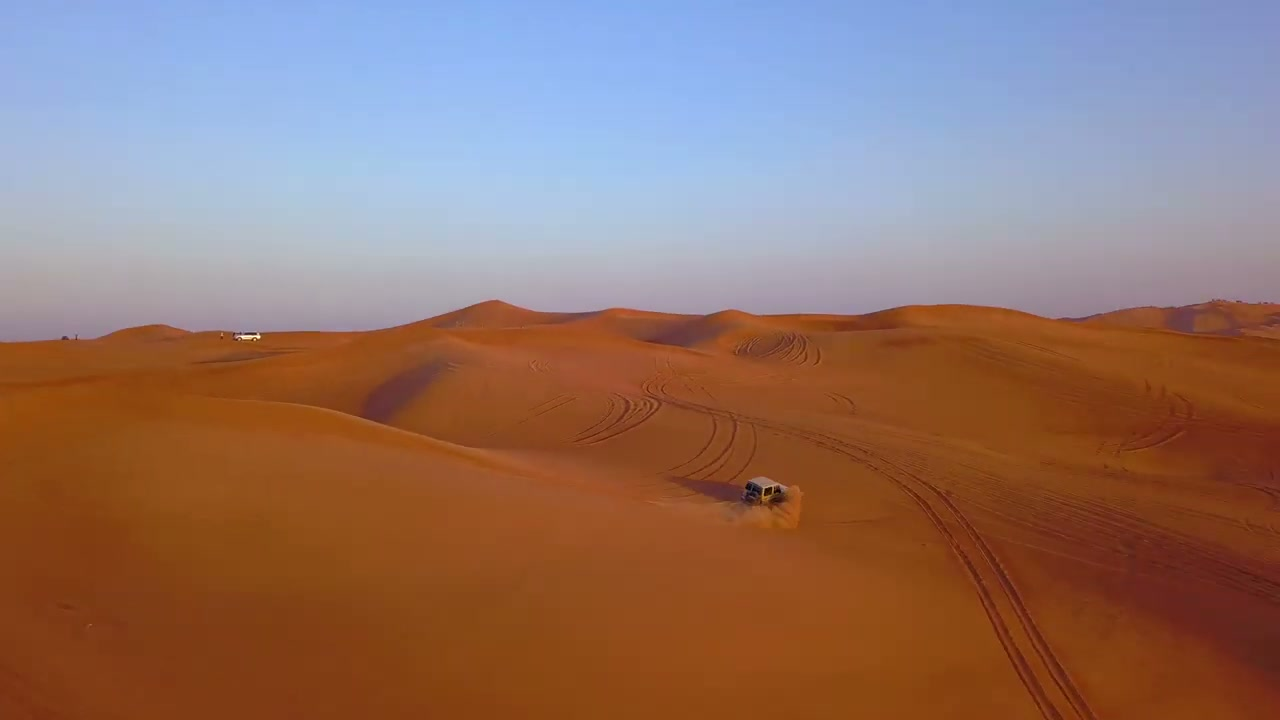vehicle_track: (660, 396, 1095, 719), (982, 481, 1279, 604), (667, 413, 757, 480), (1113, 386, 1195, 454), (574, 393, 660, 444), (735, 331, 820, 366), (573, 393, 625, 443), (517, 393, 576, 423), (825, 392, 855, 413)
